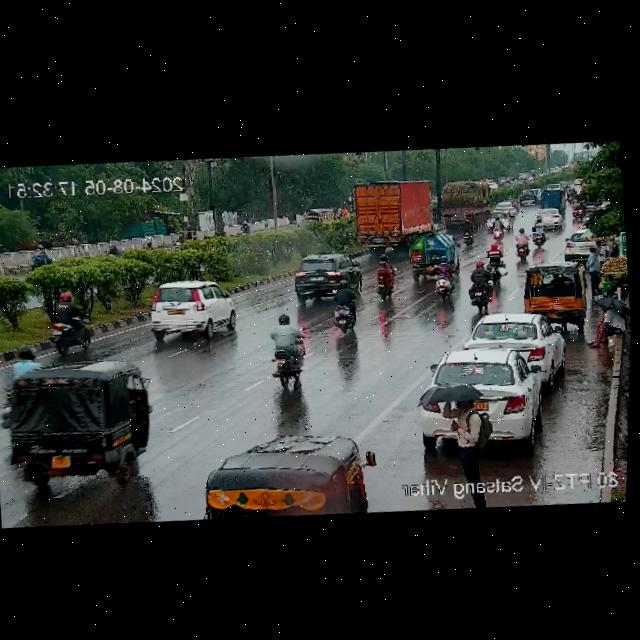car: (0, 352, 152, 490), (188, 431, 376, 527), (413, 338, 550, 458), (144, 276, 237, 346), (465, 308, 563, 374), (515, 261, 586, 323), (287, 251, 361, 303), (402, 230, 455, 284), (535, 184, 565, 215), (530, 206, 566, 229), (511, 188, 537, 207), (490, 199, 519, 214)
motorcycle: (260, 315, 312, 394), (39, 295, 93, 357), (465, 260, 497, 312), (327, 288, 364, 332), (427, 258, 459, 301), (374, 255, 398, 299), (511, 227, 534, 261), (484, 241, 503, 282), (27, 241, 52, 270), (524, 220, 548, 249), (460, 217, 477, 249), (570, 191, 586, 220), (488, 216, 505, 242), (238, 219, 252, 236)
person: (443, 380, 503, 511), (585, 291, 625, 353), (583, 238, 613, 294)
truck: (343, 177, 435, 251), (435, 174, 495, 229), (297, 206, 335, 234)
